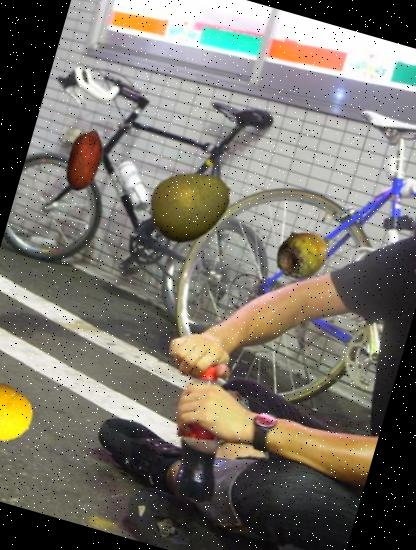Cactus: (266, 216, 340, 290)
Cantaloupe: (0, 373, 40, 453)
Nut: (44, 120, 124, 200)
Pear: (138, 152, 243, 256)
